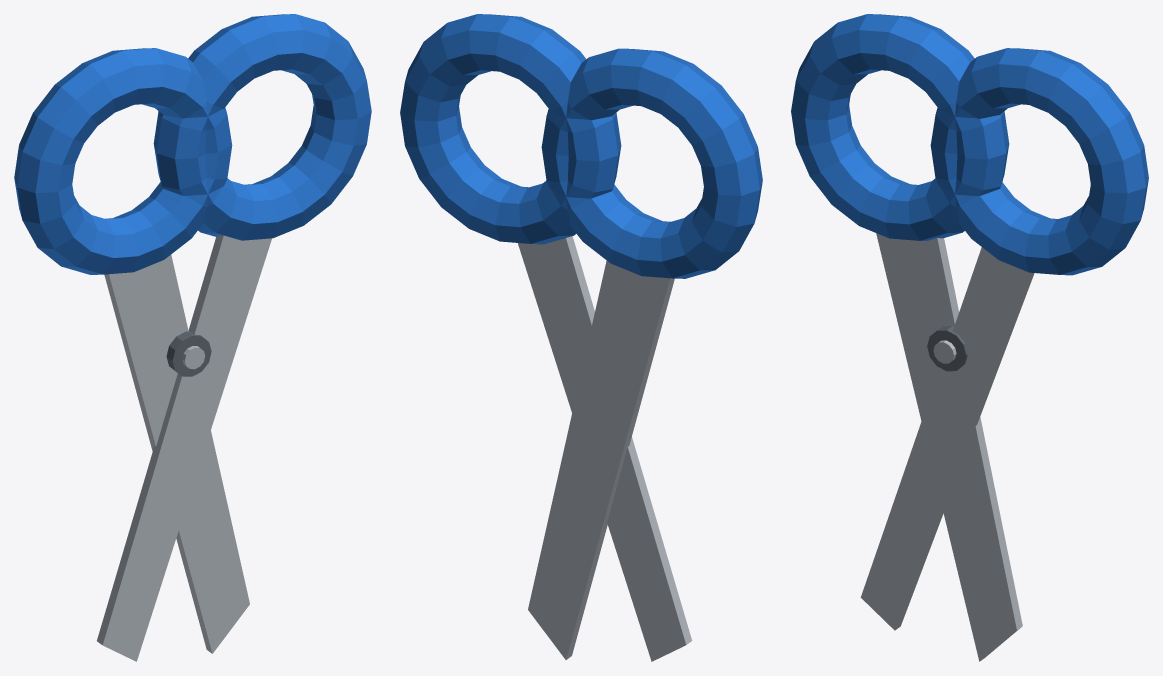
File: Scisor.fbx
The picture shows the model from 3 angles, left to right: view 1: azimuth 30°, elevation 25°; view 2: azimuth 150°, elevation 25°; view 3: azimuth 330°, elevation 25°; orthographic projection.
Visible parts, largest first — view 1: Tesoura; view 2: Tesoura; view 3: Tesoura.
Part boxes in pixels (bbox=[...]): Tesoura: bbox=[14, 14, 371, 661]; Tesoura: bbox=[400, 14, 762, 661]; Tesoura: bbox=[791, 14, 1148, 661].
Size of the model in its own units: 189 by 319 by 28.
